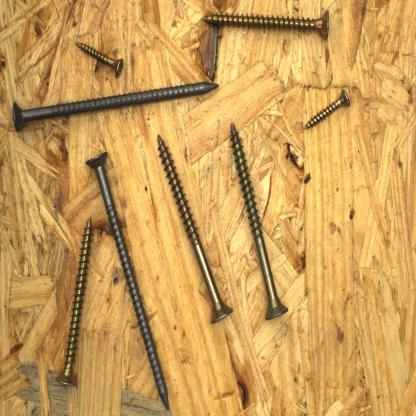screw: (84, 147, 172, 413), (155, 131, 235, 327), (228, 121, 291, 324), (9, 77, 222, 135), (54, 214, 94, 391), (200, 4, 333, 43), (73, 37, 126, 81), (302, 87, 353, 132)
